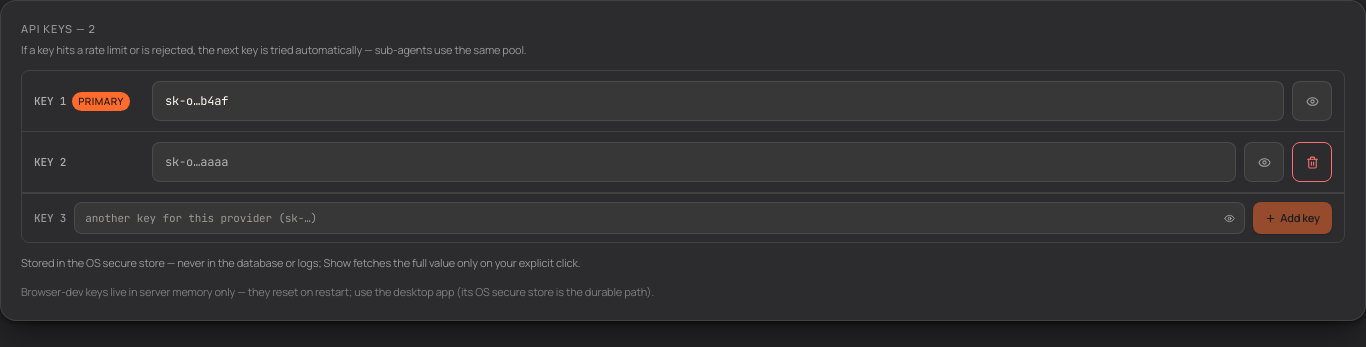
Scenario: ProviderKeysCard — first-free-slot + the R92-D3/R47 Tauri fix › R95-A: pool rows mirror Key 1's visual language — the same bordered h-10 eye, and Copy appears (labeled) only while revealed
The width and height of the screenshot is (1366, 347).
Expected: the text "sk-o…aaaa" is shown, left=165, top=154, right=228, bottom=170
Click the button named "Reveal key 2" at (1264, 162), box left=1244, top=142, right=1284, bottom=182
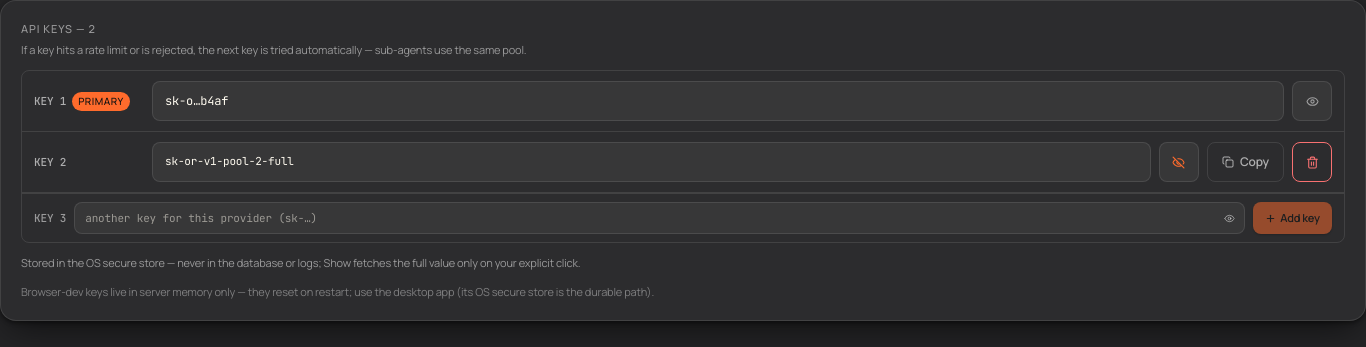
Result: the button with aria-label "Copy key 2" reads "Copy" at left=1207, top=142, right=1284, bottom=182
